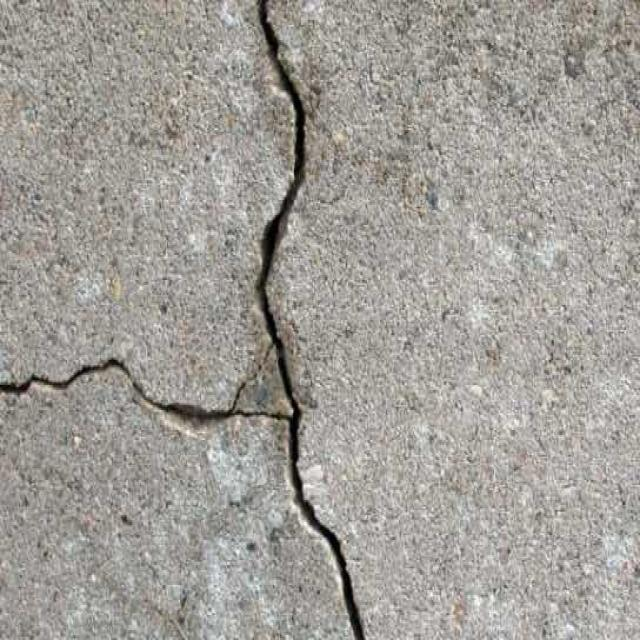Annular: (195, 308, 326, 456)
Longitudinal: (234, 0, 322, 293), (281, 458, 374, 640)
Transverse: (0, 350, 184, 440)
